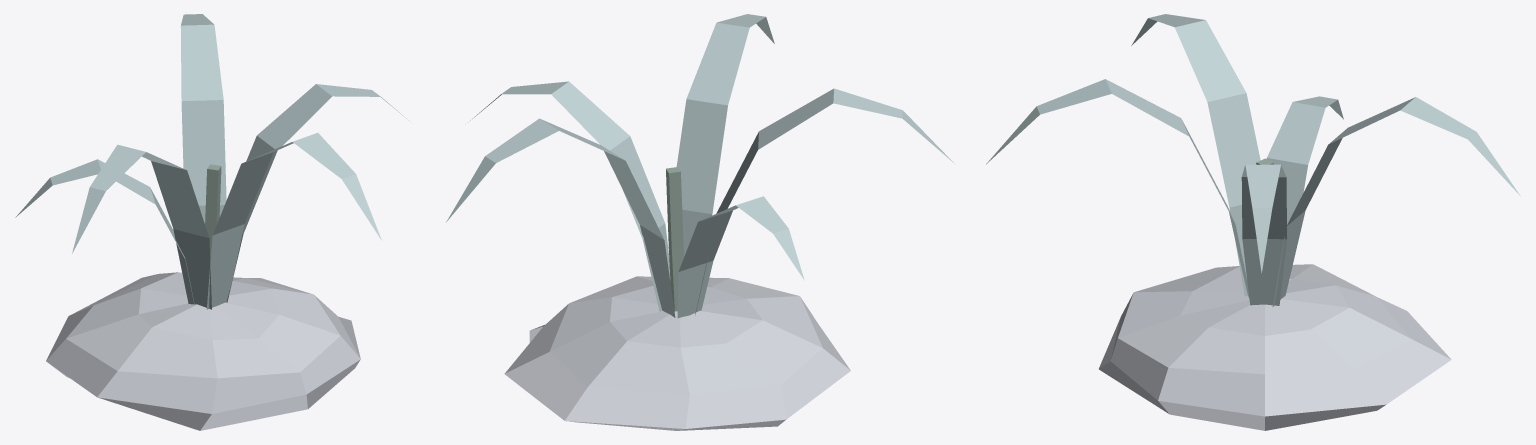
The model's file is plant_t2_picked.fbx.
The picture shows the model from 3 angles, left to right: view 1: azimuth 30°, elevation 25°; view 2: azimuth 150°, elevation 25°; view 3: azimuth 270°, elevation 25°; orthographic projection. The views are drawn at different scales.
Parts seen in each view (by area): view 1: plant_t2_picked; view 2: plant_t2_picked; view 3: plant_t2_picked.
Boxes of the visible parts, x1,y1,x2,y2 form: plant_t2_picked: (15, 14, 408, 430); plant_t2_picked: (446, 14, 955, 430); plant_t2_picked: (986, 14, 1520, 430).
Bounding box in the file's own units: 31.09 × 20.27 × 33.59.
